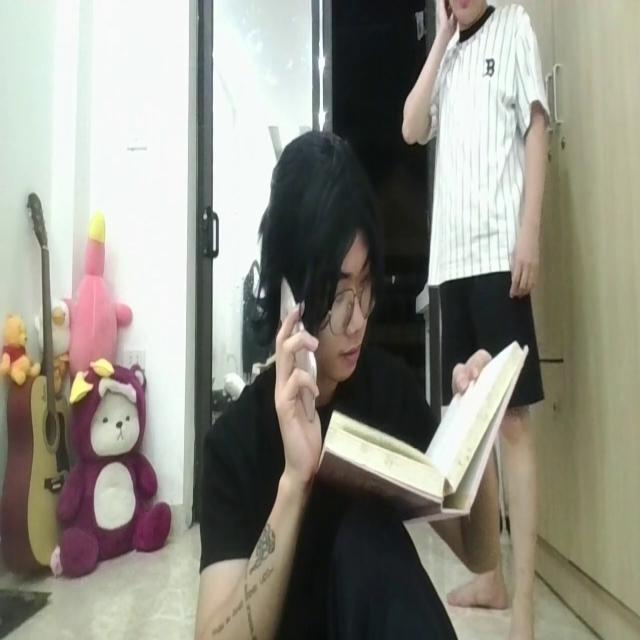book: (321, 335, 527, 522)
extra_person: (403, 0, 553, 640)
phone: (274, 269, 320, 423)
student: (190, 126, 508, 640)
